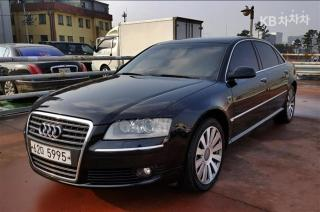2: (36, 144, 40, 154)
5: (46, 147, 52, 159), (61, 151, 67, 162)
6: (32, 143, 37, 153)
9: (56, 150, 61, 161), (51, 149, 56, 159)
plate: (26, 136, 74, 169)
다: (39, 145, 45, 155)
